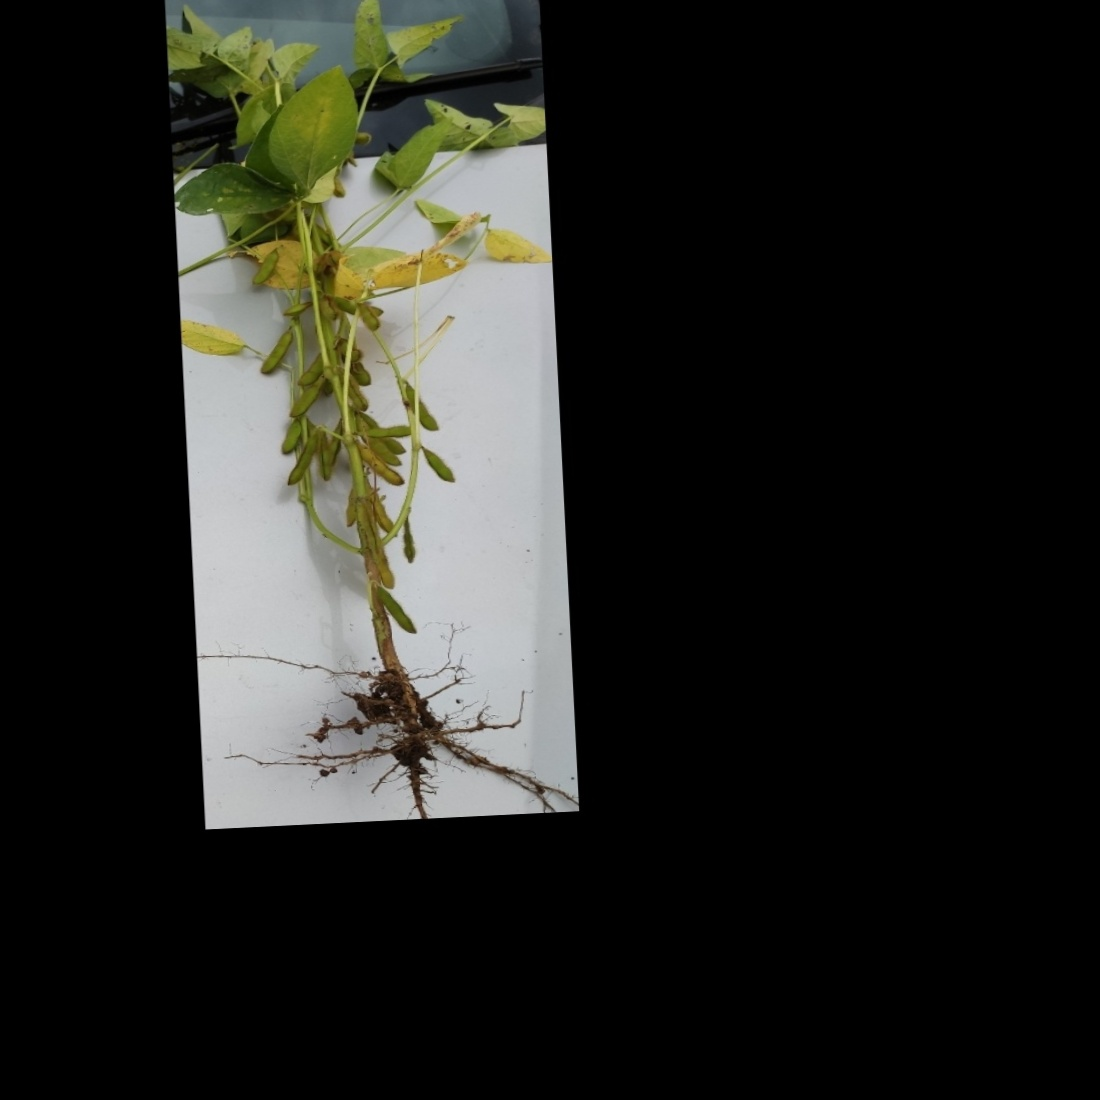pod: (283, 431, 323, 489), (378, 584, 418, 638), (359, 443, 406, 489), (405, 383, 441, 436), (284, 380, 327, 422), (417, 441, 457, 487), (259, 329, 295, 376), (245, 246, 282, 286), (277, 417, 302, 457)
soy: (200, 0, 519, 789)
